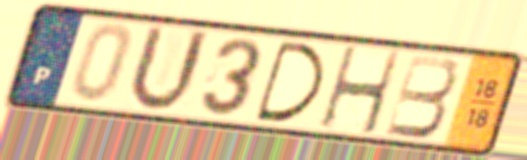0: (66, 21, 135, 107)
3: (197, 36, 264, 119)
B: (382, 52, 460, 140)
D: (252, 38, 328, 125)
H: (316, 44, 404, 138)
U: (123, 21, 213, 116)
